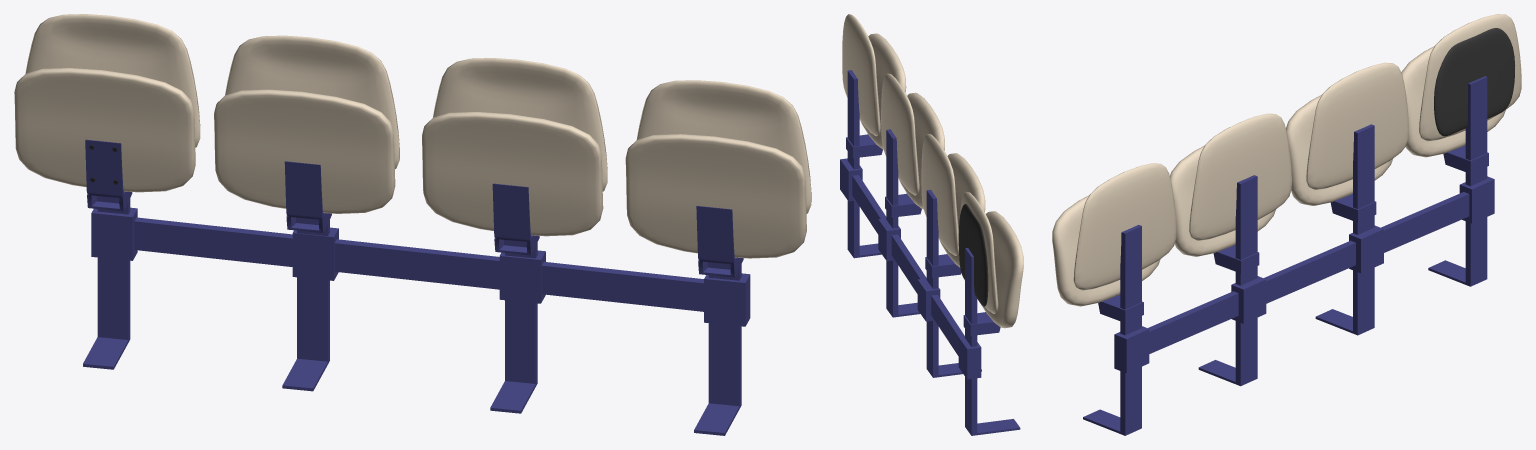
The model's file is A222fauteil.fbx.
3 views of the same model, side by side, from view 1: azimuth 30°, elevation 25°; view 2: azimuth 150°, elevation 25°; view 3: azimuth 270°, elevation 25° (orthographic). The views are drawn at different scales.
Parts seen in each view (by area): view 1: polySurface24; view 2: polySurface24; view 3: polySurface24.
Boxes of the visible parts, bbox=[...] form: polySurface24: bbox=[14, 14, 811, 435]; polySurface24: bbox=[840, 14, 1023, 435]; polySurface24: bbox=[1052, 14, 1521, 435].
Size of the model in its own units: 10.92 by 6.49 by 10.74.
